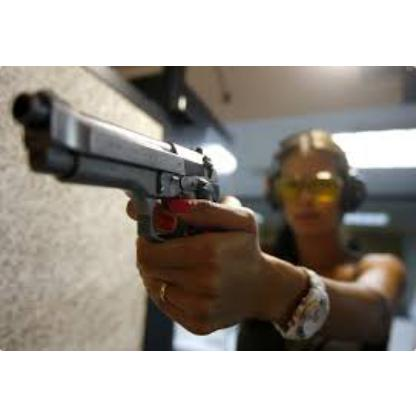gun: (9, 90, 221, 298)
